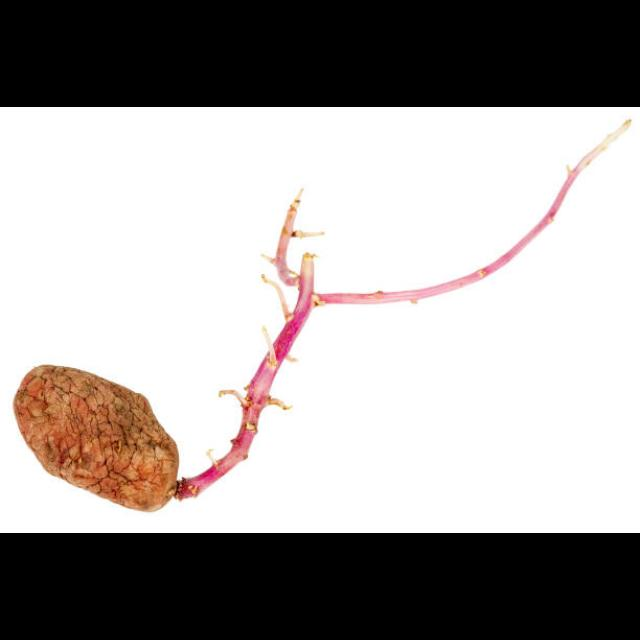Sprouted potato: (222, 107, 636, 533)
